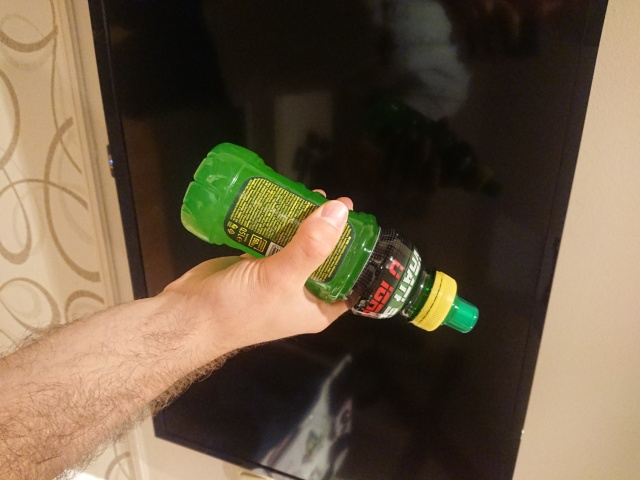Vindi Iso Sport Lemon-Grapefruit 500mL: (177, 139, 482, 337)
